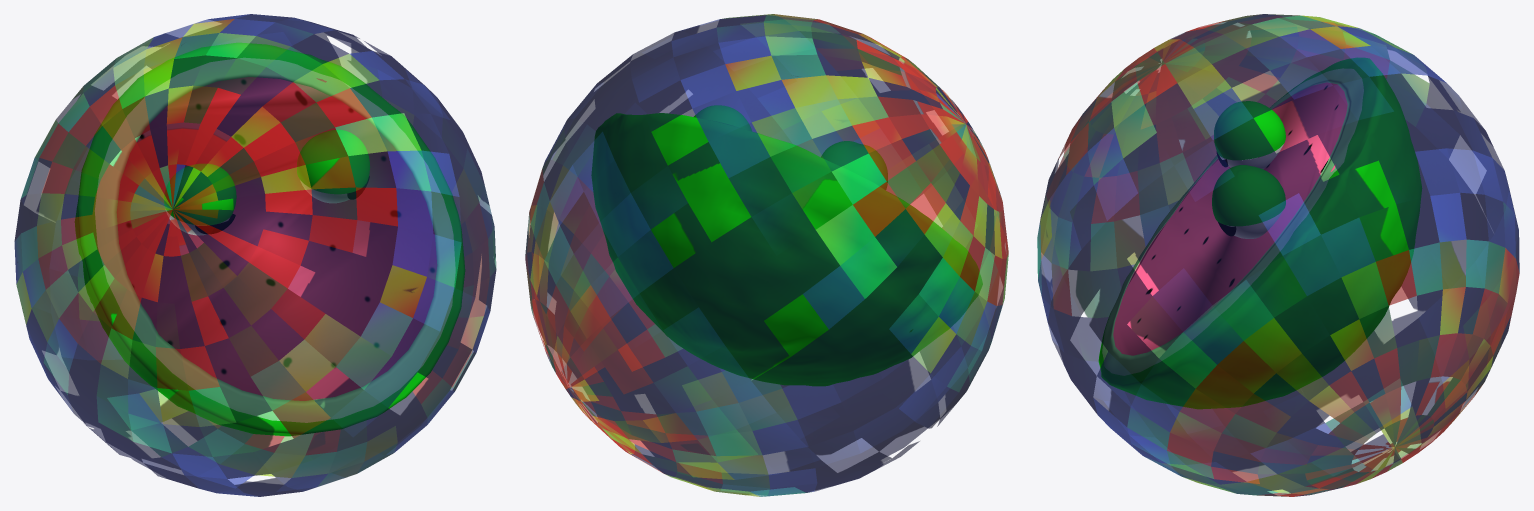
The model's file is watermelon.glb.
3 views of the same model, side by side, from view 1: azimuth 30°, elevation 25°; view 2: azimuth 150°, elevation 25°; view 3: azimuth 270°, elevation 25° (orthographic).
Parts seen in each view (by area): view 1: Sphere.010, watermel; view 2: Sphere.010, watermel; view 3: Sphere.010, watermel.
Part boxes in pixels (x1,y1,x2,y2): Sphere.010: (14,14,496,496); watermel: (75,43,464,436); Sphere.010: (525,14,1008,496); watermel: (591,105,982,385); Sphere.010: (1037,14,1519,496); watermel: (1098,57,1421,408).
Size of the model in its own units: 6 by 6.02 by 5.99.
Materials: 6 (3 with a texture image).
